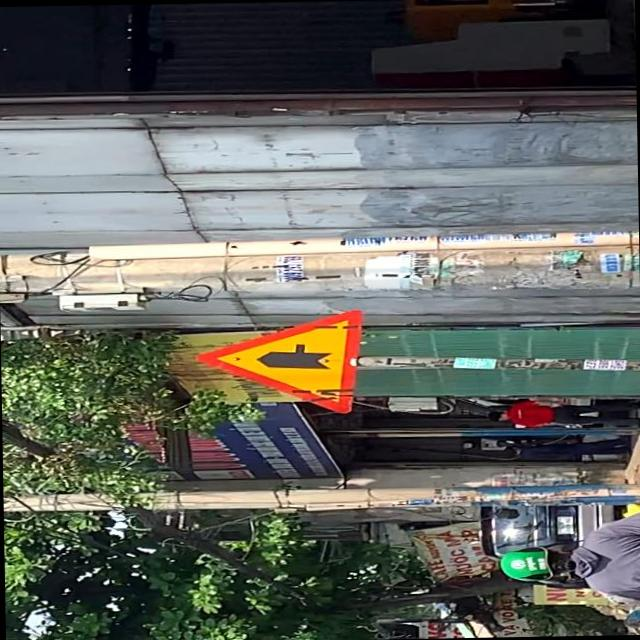W-207b: (194, 308, 366, 414)
